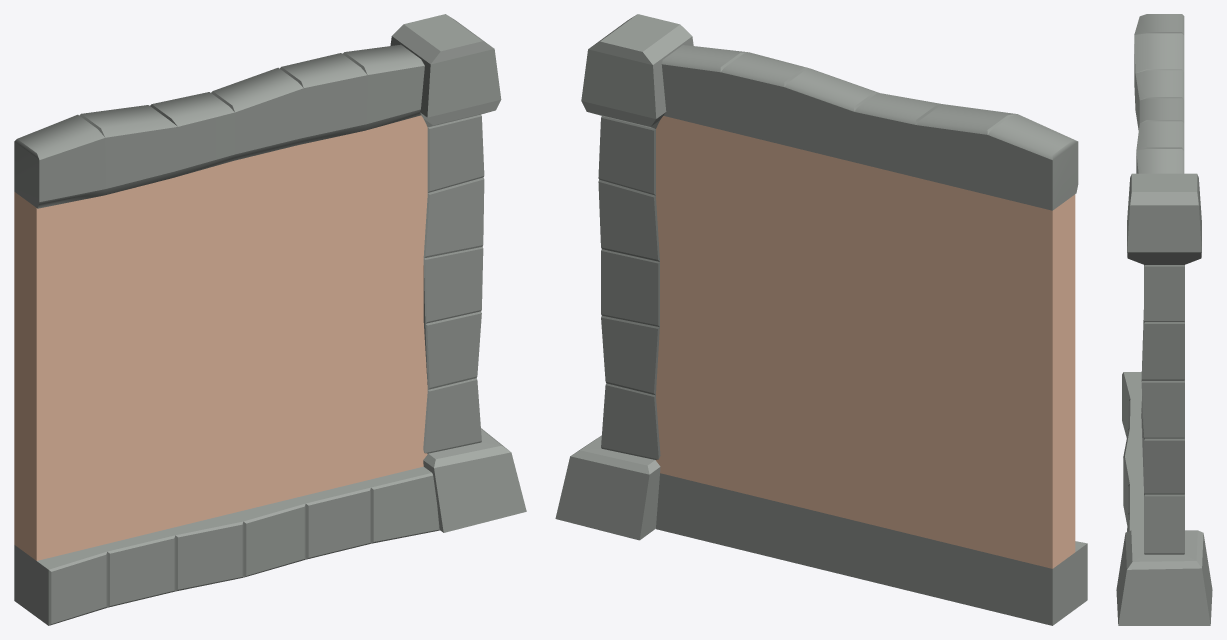
Rendered from Wall4.fbx.
3 renders of one model, left to right at view 1: azimuth 30°, elevation 25°; view 2: azimuth 150°, elevation 25°; view 3: azimuth 270°, elevation 25°, orthographic. The views are drawn at different scales.
Visible parts, largest first — view 1: Cube.039; view 2: Cube.039; view 3: Cube.039.
Boxes of the visible parts, x1,y1,x2,y2 form: Cube.039: (14,14,526,625); Cube.039: (555,14,1087,625); Cube.039: (1116,14,1212,625).
Size of the model in its own units: 243 by 232 by 48.2.
Materials: 1 (1 with a texture image).
